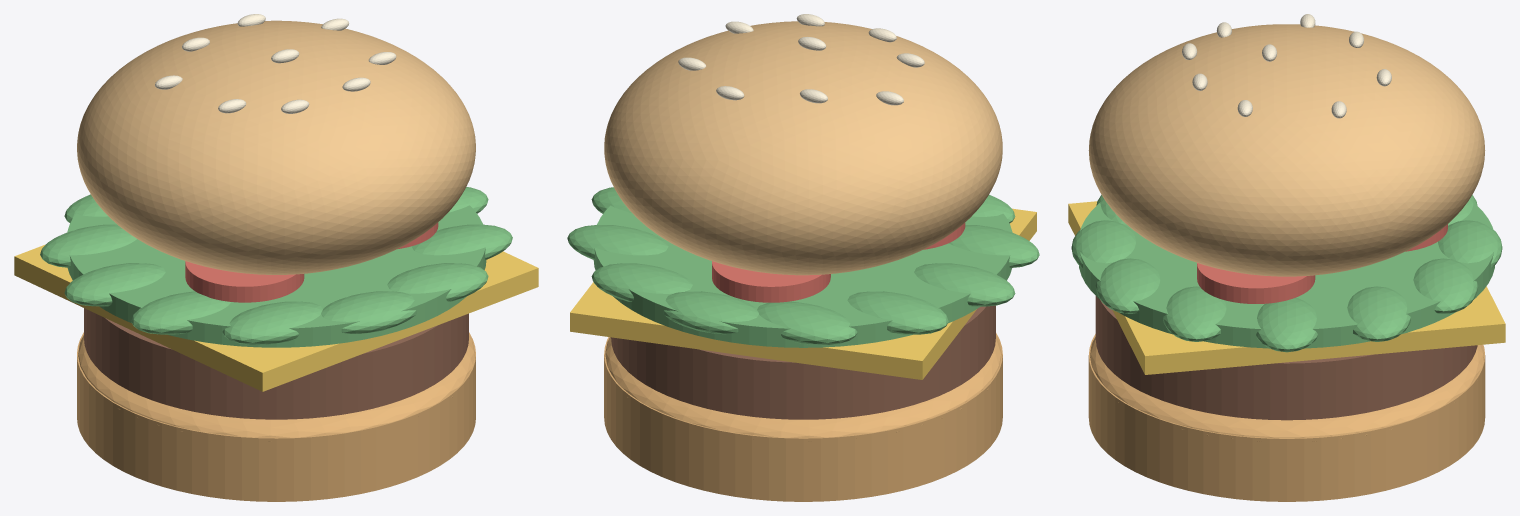
The model's file is house-burger.glb.
3 views of the same model, side by side, from view 1: azimuth 30°, elevation 25°; view 2: azimuth 150°, elevation 25°; view 3: azimuth 270°, elevation 25° (orthographic).
Visible parts, largest first — view 1: Topo do pao, Pao inferior, Hamburguer artesanal, Alface, Queijo cheddar, Borda arredondada do pao, Fatia de tomate 2, Folha ondulada 5, Folha ondulada 4, Folha ondulada 7, Folha ondulada 6, Folha ondulada 3 (+4 smaller); view 2: Topo do pao, Pao inferior, Hamburguer artesanal, Alface, Queijo cheddar, Borda arredondada do pao, Fatia de tomate 3, Folha ondulada 9, Folha ondulada 10, Folha ondulada 8, Folha ondulada 7, Folha ondulada 11 (+4 smaller); view 3: Topo do pao, Pao inferior, Hamburguer artesanal, Alface, Queijo cheddar, Borda arredondada do pao, Fatia de tomate 1, Folha ondulada 12, Folha ondulada 1, Folha ondulada 2, Folha ondulada 3, Folha ondulada 11 (+2 smaller).
Part boxes in pixels (x1=…): Topo do pao: x1=77, y1=20, x2=475, y2=274; Pao inferior: x1=77, y1=332, x2=475, y2=501; Hamburguer artesanal: x1=84, y1=308, x2=468, y2=419; Alface: x1=67, y1=205, x2=486, y2=347; Queijo cheddar: x1=14, y1=244, x2=538, y2=391; Borda arredondada do pao: x1=78, y1=335, x2=475, y2=441; Fatia de tomate 2: x1=185, y1=261, x2=304, y2=302; Folha ondulada 5: x1=222, y1=301, x2=322, y2=344; Folha ondulada 4: x1=321, y1=291, x2=416, y2=333; Folha ondulada 7: x1=64, y1=263, x2=165, y2=306; Folha ondulada 6: x1=131, y1=291, x2=230, y2=334; Folha ondulada 3: x1=387, y1=263, x2=488, y2=301; Topo do pao: x1=604, y1=21, x2=1002, y2=275; Pao inferior: x1=604, y1=333, x2=1002, y2=501; Hamburguer artesanal: x1=611, y1=305, x2=995, y2=419; Alface: x1=593, y1=205, x2=1012, y2=347; Queijo cheddar: x1=570, y1=208, x2=1036, y2=379; Borda arredondada do pao: x1=605, y1=336, x2=1001, y2=441; Fatia de tomate 3: x1=712, y1=261, x2=830, y2=302; Folha ondulada 9: x1=757, y1=301, x2=857, y2=344; Folha ondulada 10: x1=663, y1=291, x2=758, y2=334; Folha ondulada 8: x1=847, y1=291, x2=948, y2=334; Folha ondulada 7: x1=914, y1=263, x2=1015, y2=306; Folha ondulada 11: x1=591, y1=263, x2=692, y2=301; Topo do pao: x1=1088, y1=24, x2=1485, y2=276; Pao inferior: x1=1088, y1=334, x2=1485, y2=501; Hamburguer artesanal: x1=1095, y1=296, x2=1477, y2=420; Alface: x1=1079, y1=202, x2=1494, y2=348; Queijo cheddar: x1=1068, y1=201, x2=1505, y2=374; Borda arredondada do pao: x1=1090, y1=337, x2=1483, y2=441; Fatia de tomate 1: x1=1197, y1=263, x2=1315, y2=303; Folha ondulada 12: x1=1347, y1=286, x2=1410, y2=341; Folha ondulada 1: x1=1256, y1=297, x2=1317, y2=352; Folha ondulada 2: x1=1163, y1=286, x2=1226, y2=341; Folha ondulada 3: x1=1095, y1=258, x2=1160, y2=313; Folha ondulada 11: x1=1413, y1=258, x2=1478, y2=313.
Size of the model in its own units: 0.1201 by 0.1024 by 0.1094.
